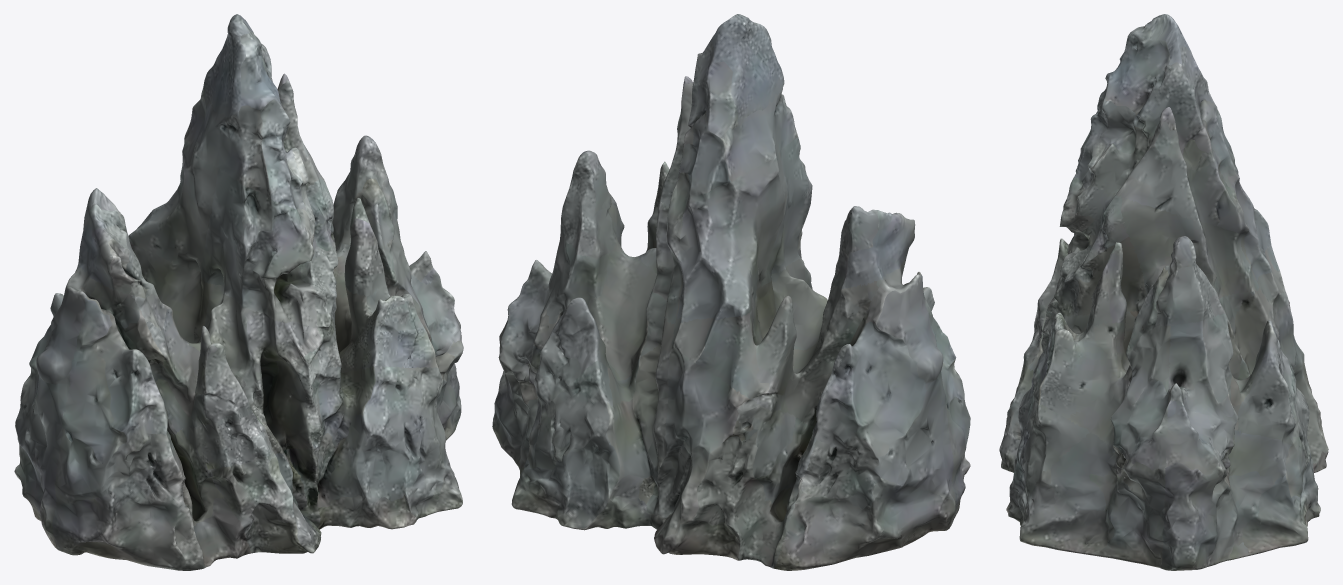
The model's file is Dieshi_11.glb.
3 renders of one model, left to right at view 1: azimuth 30°, elevation 25°; view 2: azimuth 150°, elevation 25°; view 3: azimuth 270°, elevation 25°, orthographic. The views are drawn at different scales.
Visible parts, largest first — view 1: tripo_node_c68b899d-f661-4d29-9ea2-952bb3059be2; view 2: tripo_node_c68b899d-f661-4d29-9ea2-952bb3059be2; view 3: tripo_node_c68b899d-f661-4d29-9ea2-952bb3059be2.
Part boxes in pixels (<box>): tripo_node_c68b899d-f661-4d29-9ea2-952bb3059be2: <box>14,14,463,570</box>; tripo_node_c68b899d-f661-4d29-9ea2-952bb3059be2: <box>492,14,970,570</box>; tripo_node_c68b899d-f661-4d29-9ea2-952bb3059be2: <box>999,14,1328,570</box>.
Bounding box in the file's own units: 0.9326 × 0.9796 × 0.6343.
1 material, 1 textured.
